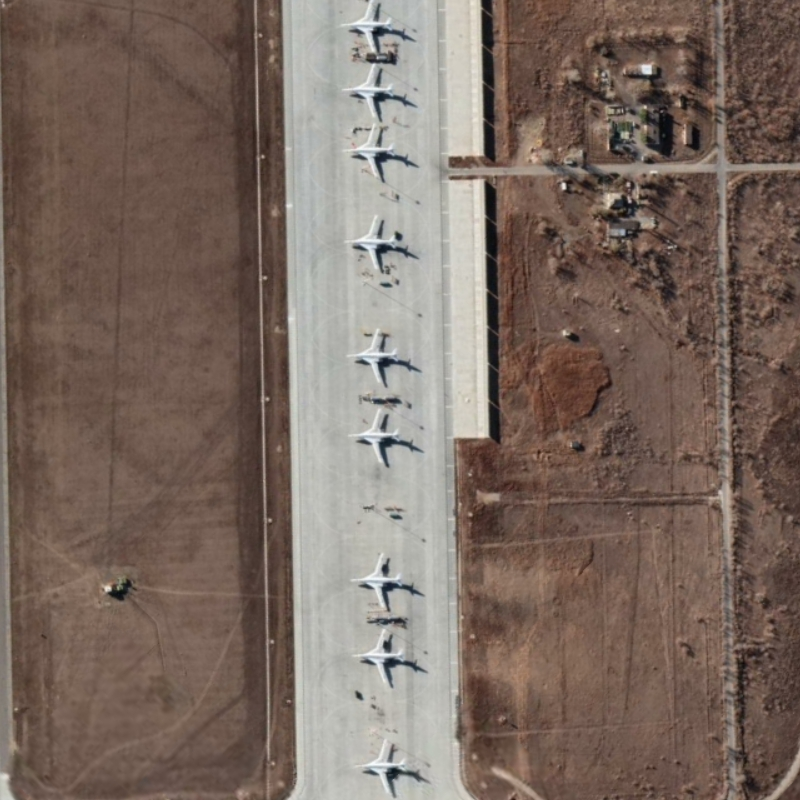A6: (350, 627, 405, 687), (353, 737, 408, 797), (341, 122, 396, 180), (345, 327, 399, 386), (346, 407, 401, 464), (340, 61, 394, 119), (343, 214, 397, 272), (349, 552, 403, 610), (339, 1, 394, 54)
